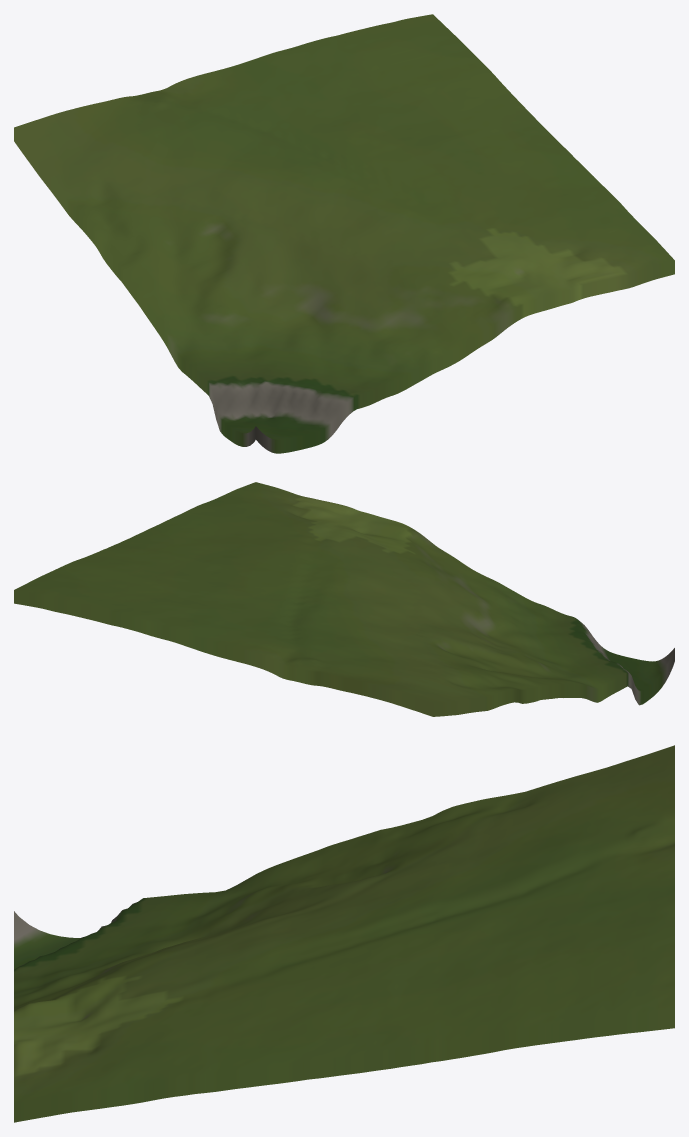
Rendered from terrain_10_-24.glb.
3 views of the same model, one above another, from view 1: azimuth 30°, elevation 25°; view 2: azimuth 150°, elevation 25°; view 3: azimuth 270°, elevation 25° (orthographic). The views are drawn at different scales.
Parts seen in each view (by area): view 1: terrain_10_-24; view 2: terrain_10_-24; view 3: terrain_10_-24.
Boxes of the visible parts, x1,y1,x2,y2 form: terrain_10_-24: (14, 14, 674, 453); terrain_10_-24: (14, 482, 674, 716); terrain_10_-24: (14, 745, 674, 1122).
Bounding box in the file's own units: 256 × 99.08 × 256.
